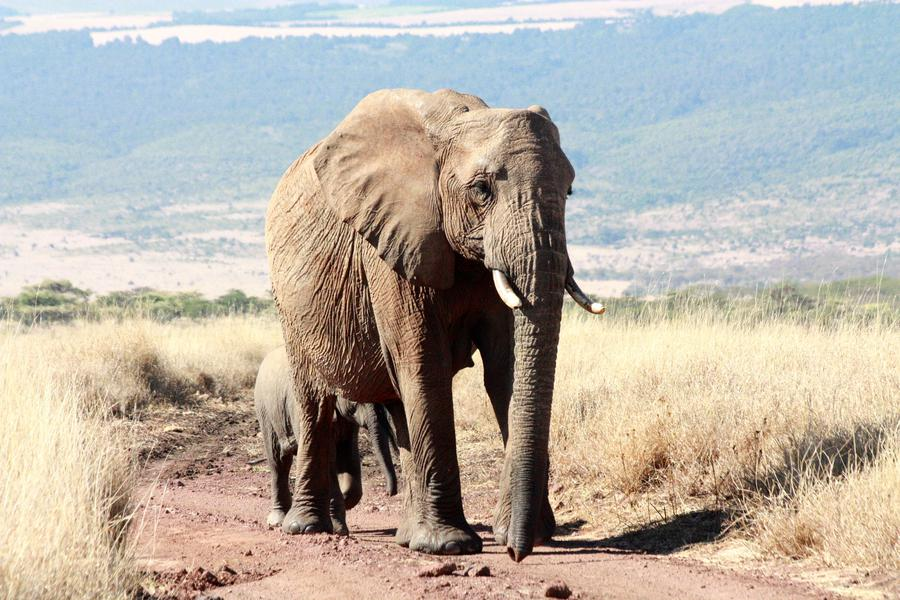elephant: (399, 95, 593, 342)
